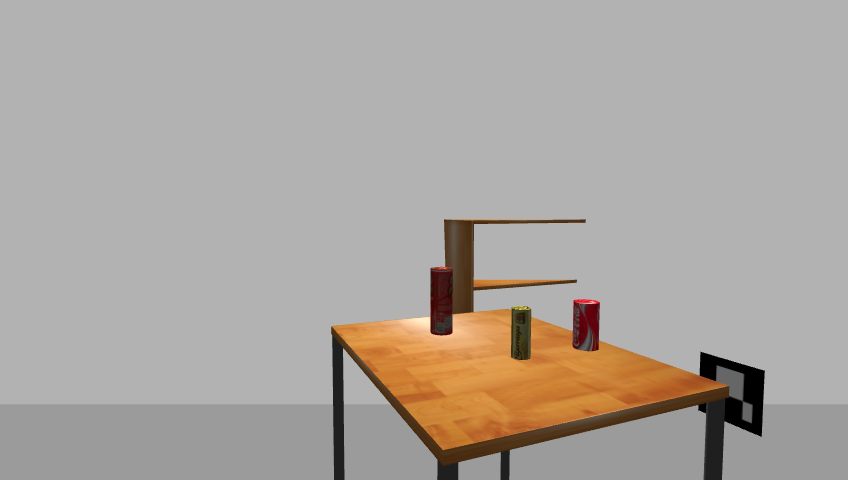aruco marker: (694, 351, 770, 438)
biscuits pack: (510, 306, 533, 362)
bookshelf: (440, 214, 592, 381)
coke can: (570, 299, 602, 352)
dinner table: (324, 311, 735, 480)
pringles can: (428, 266, 455, 337)
